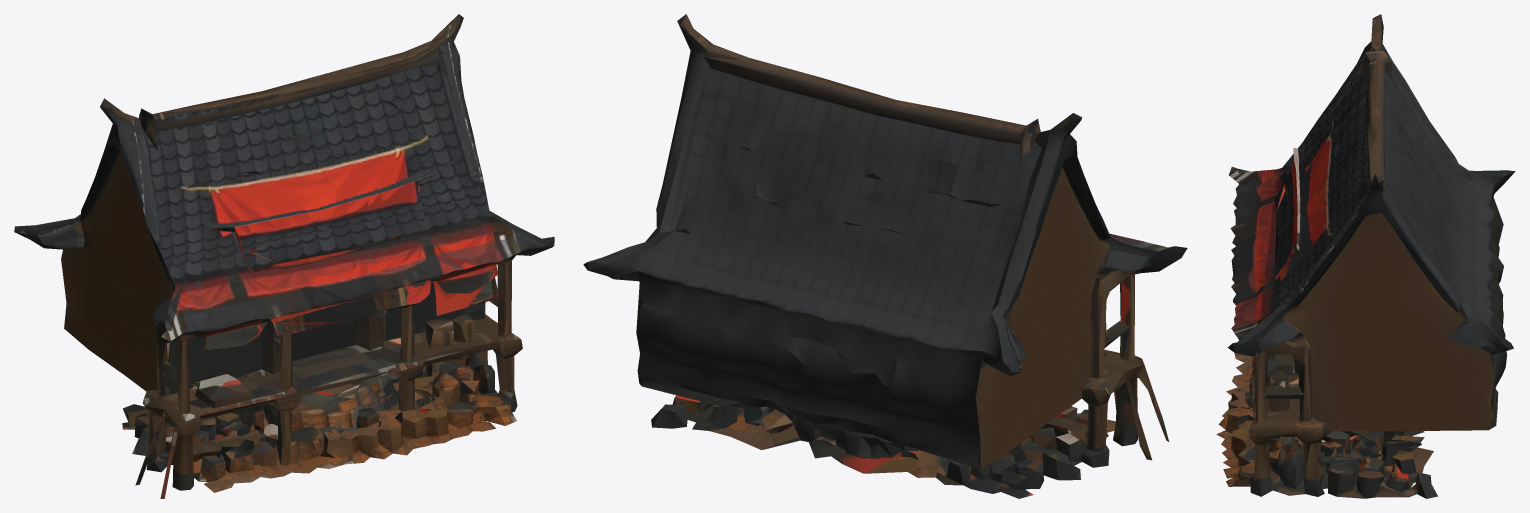
File: ayutthaya_almacen_mina.glb
3 renders of one model, left to right at view 1: azimuth 30°, elevation 25°; view 2: azimuth 150°, elevation 25°; view 3: azimuth 270°, elevation 25°, orthographic. The views are drawn at different scales.
Visible parts, largest first — view 1: geometry_0; view 2: geometry_0; view 3: geometry_0.
Boxes of the visible parts, left/top/right/bottom form: geometry_0: left=14, top=14, right=554, bottom=498; geometry_0: left=583, top=14, right=1187, bottom=498; geometry_0: left=1216, top=14, right=1515, bottom=498.
Size of the model in its own units: 1.4 by 1.18 by 0.9819.
Materials: 1 (1 with a texture image).
